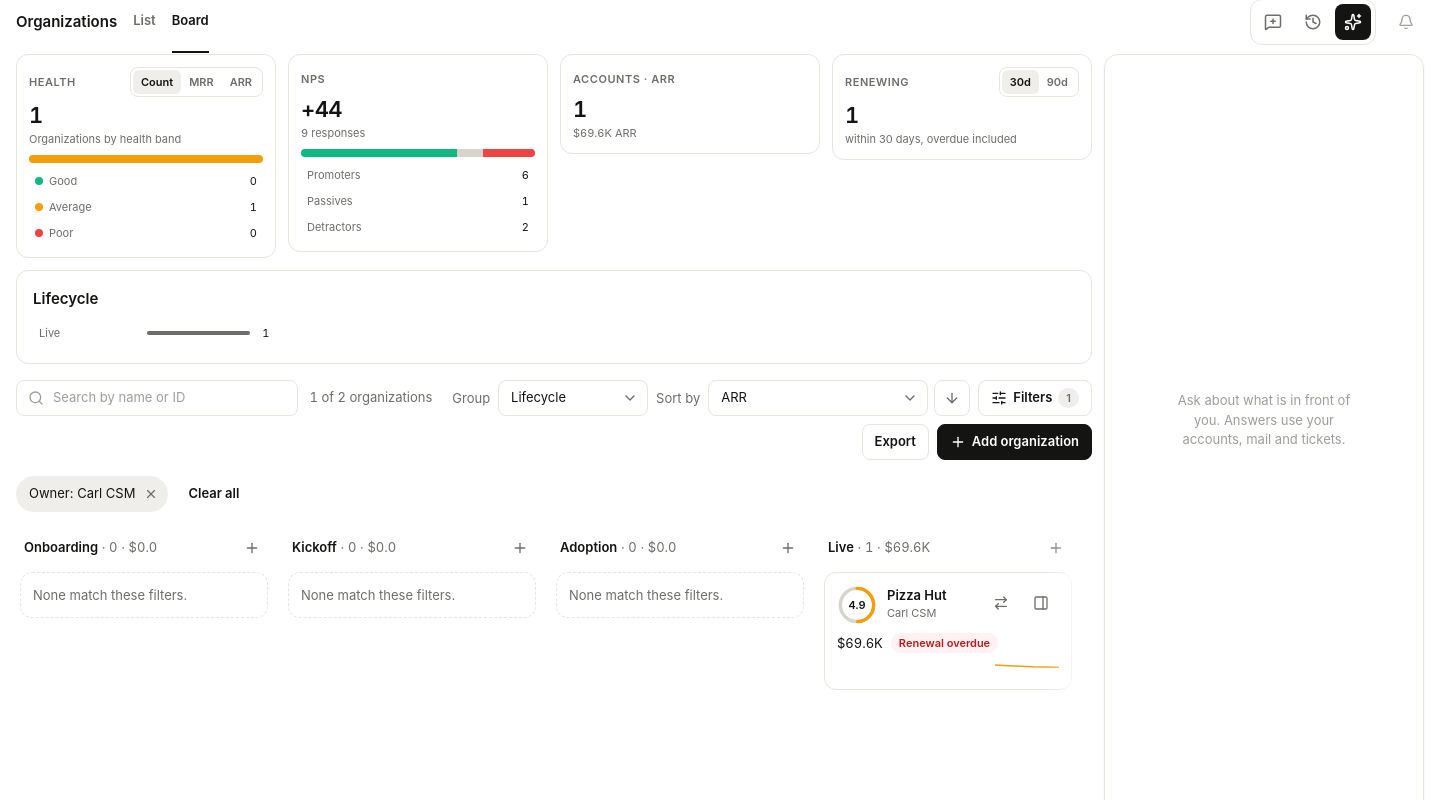
Ask Revenact on Organizations › is on the board too: a card focuses it, and the conversation survives the switch to the list
Click the button named "Open Pizza Hut" at (1041, 603), box [1023,585,1059,621]
(page scrolled)
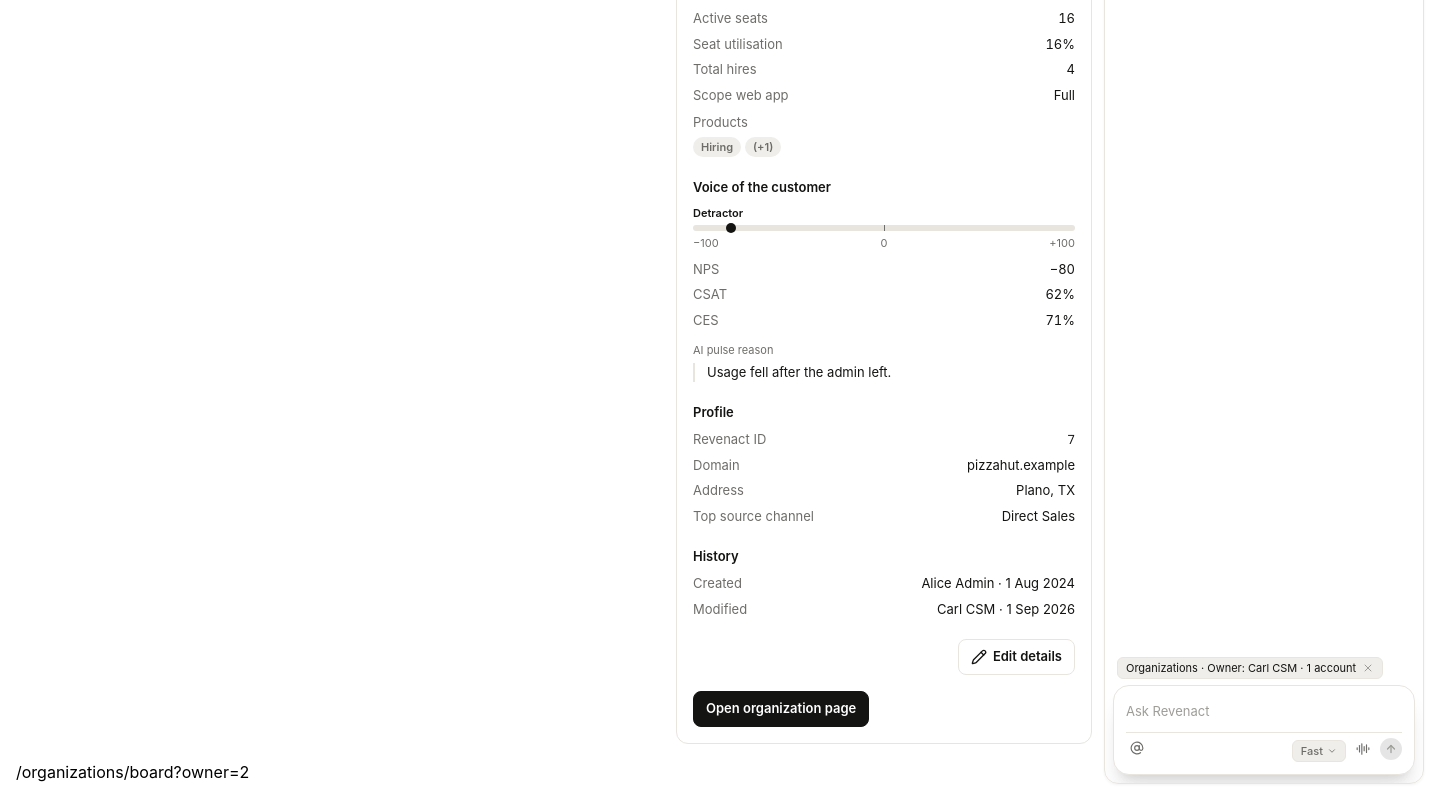
Expected: the text "Organizations · Owner: Carl CSM · 1 account" is shown, [1117,656,1383,679]
Type "Why this one?" into the field with placeholder "Ask Revenact" at (1264, 712), box [1126,700,1402,724]
Then press Enter
(page scrolled)
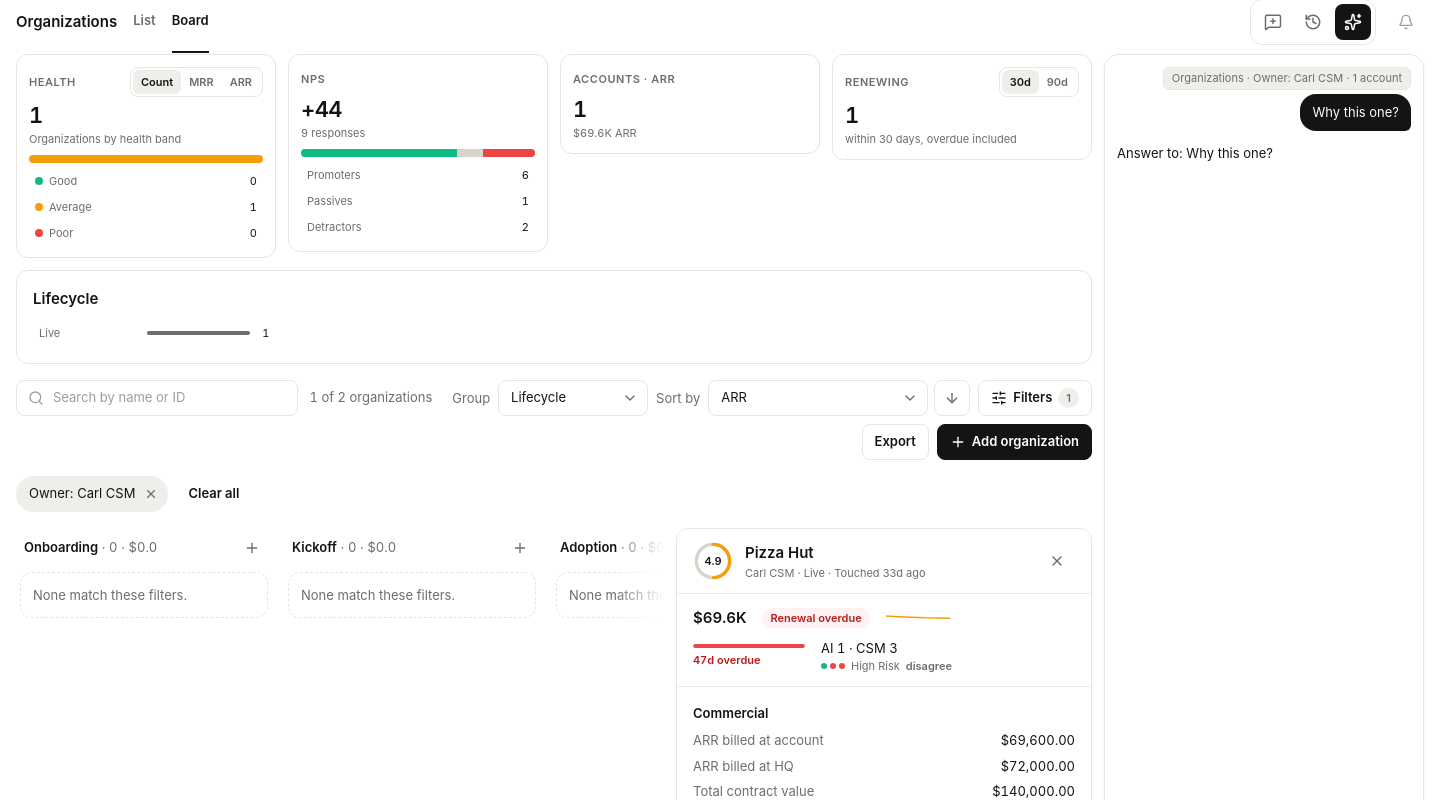
Expected: the text "Answer to: Why this one?" is shown, [1117,143,1273,164]
Click the link "List" at (144, 20), box [133,12,156,28]
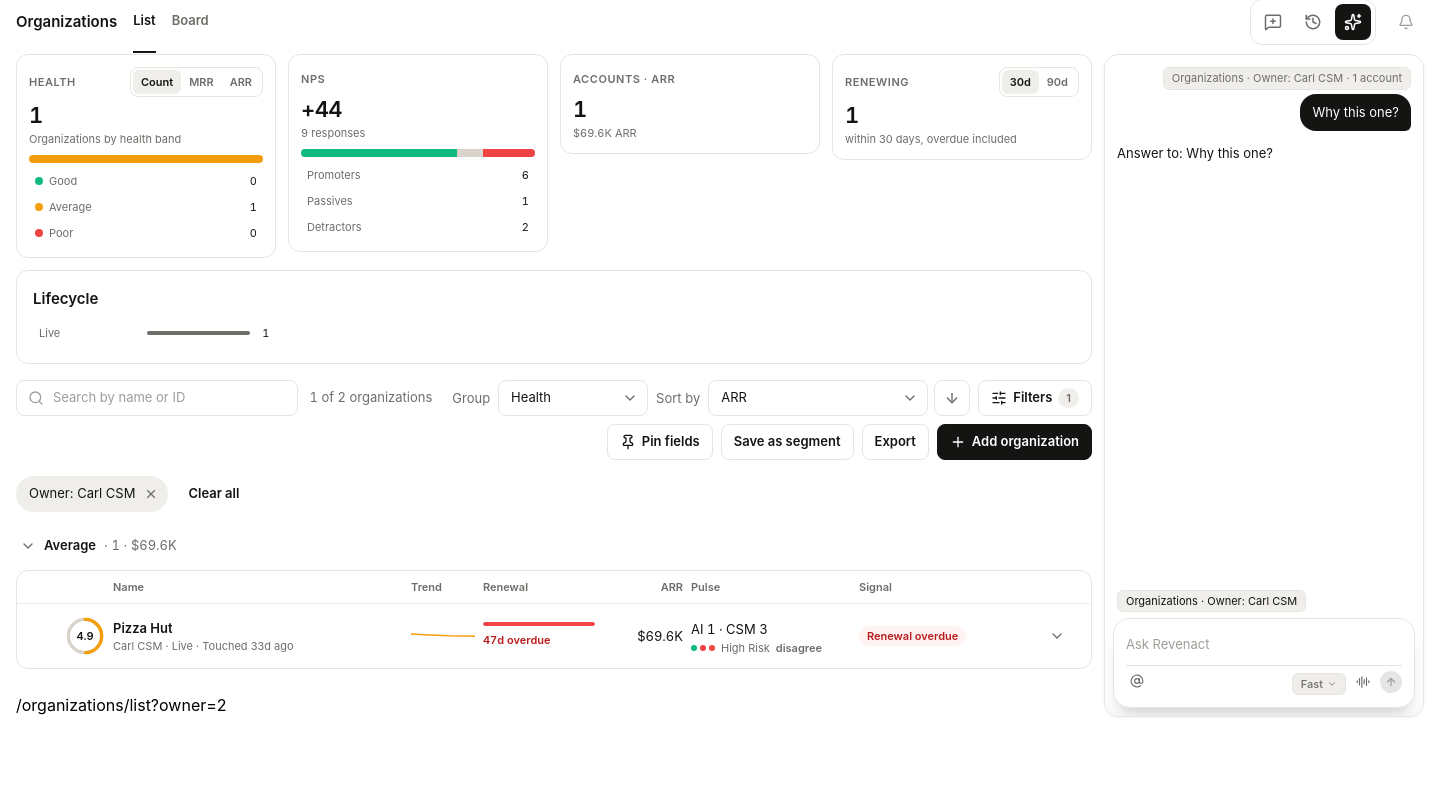
Expected: the text "1 of 2 organizations" is shown, [310,388,444,408]
Expected: the text "Answer to: Why this one?" is shown, [1117,143,1273,164]
Type "And here?" into the field with placeholder "Ask Revenact" at (1264, 645), box [1126,633,1402,656]
Then press Enter
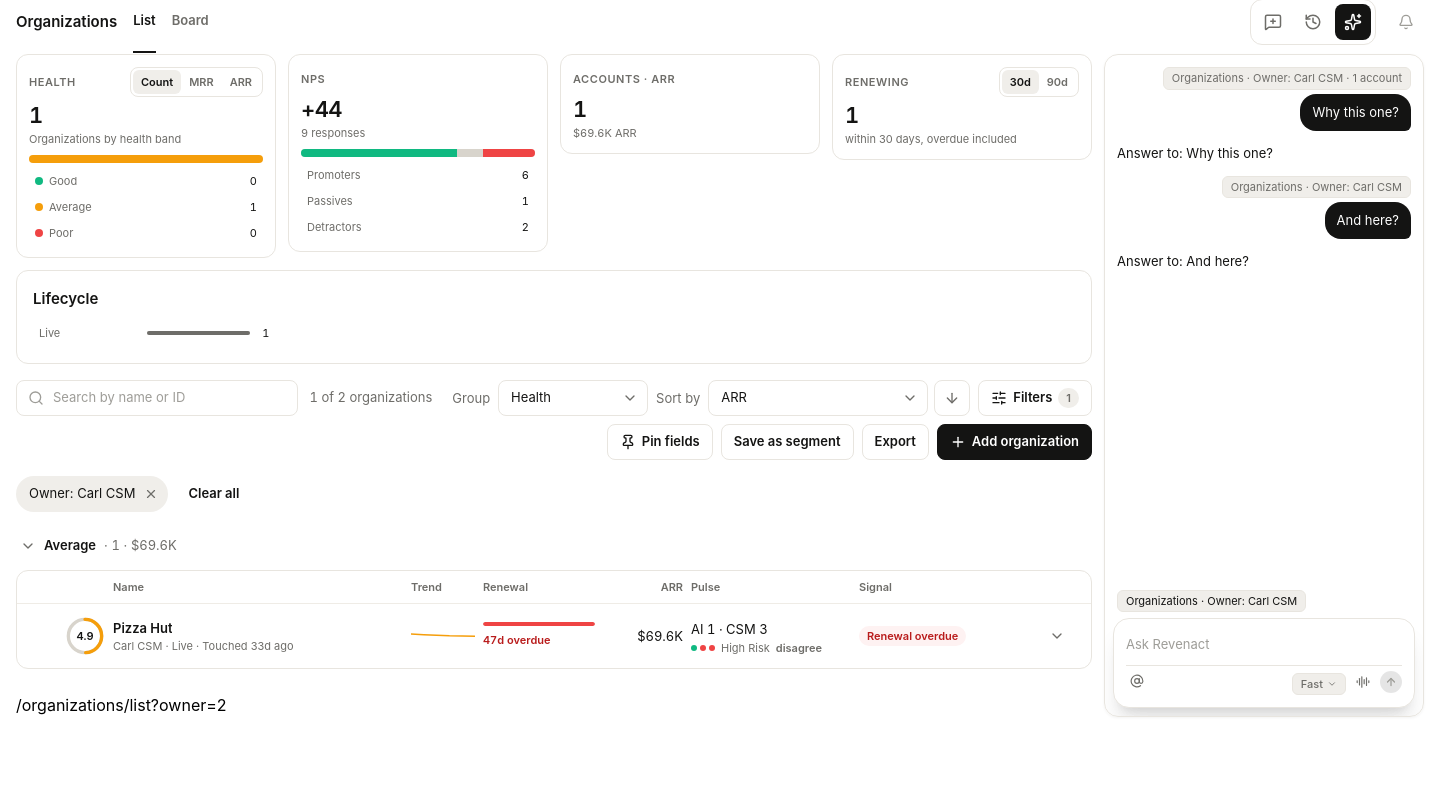
Expected: the text "Answer to: And here?" is shown, [1117,251,1249,272]
